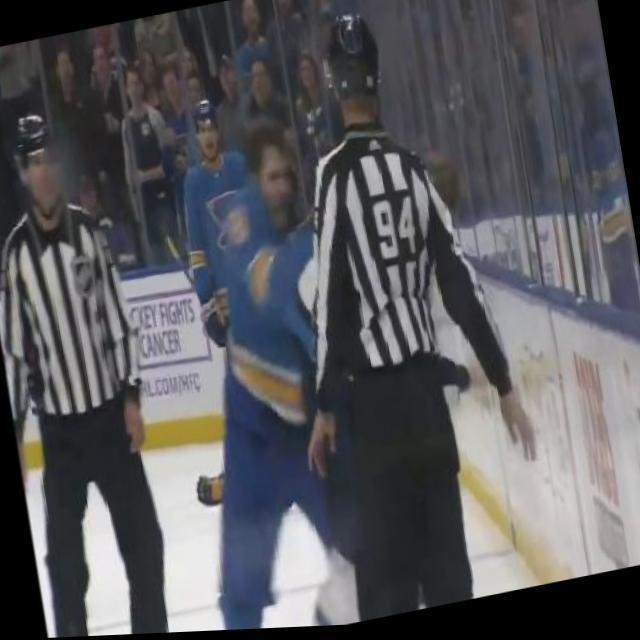fight: (175, 110, 410, 634)
